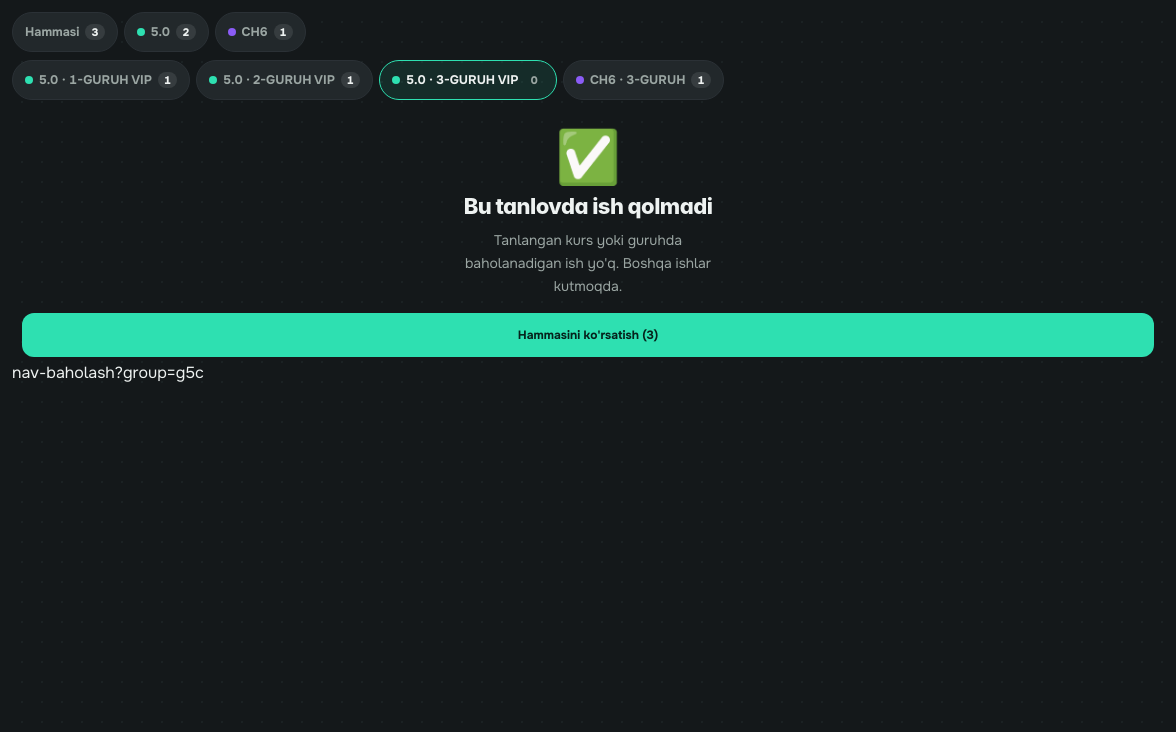
it: TeacherGrade: the inputs never move to another student › a ?group= of a group with nothing waiting is judged only once the teacher's groups have loaded
Earlier steps of the test are not shown.
Expected: the heading "Bu tanlovda ish qolmadi" is shown, [464, 193, 712, 219]
Click the button "Hammasini ko'rsatish (3)". click: [588, 335]
box: [22, 313, 1154, 357]
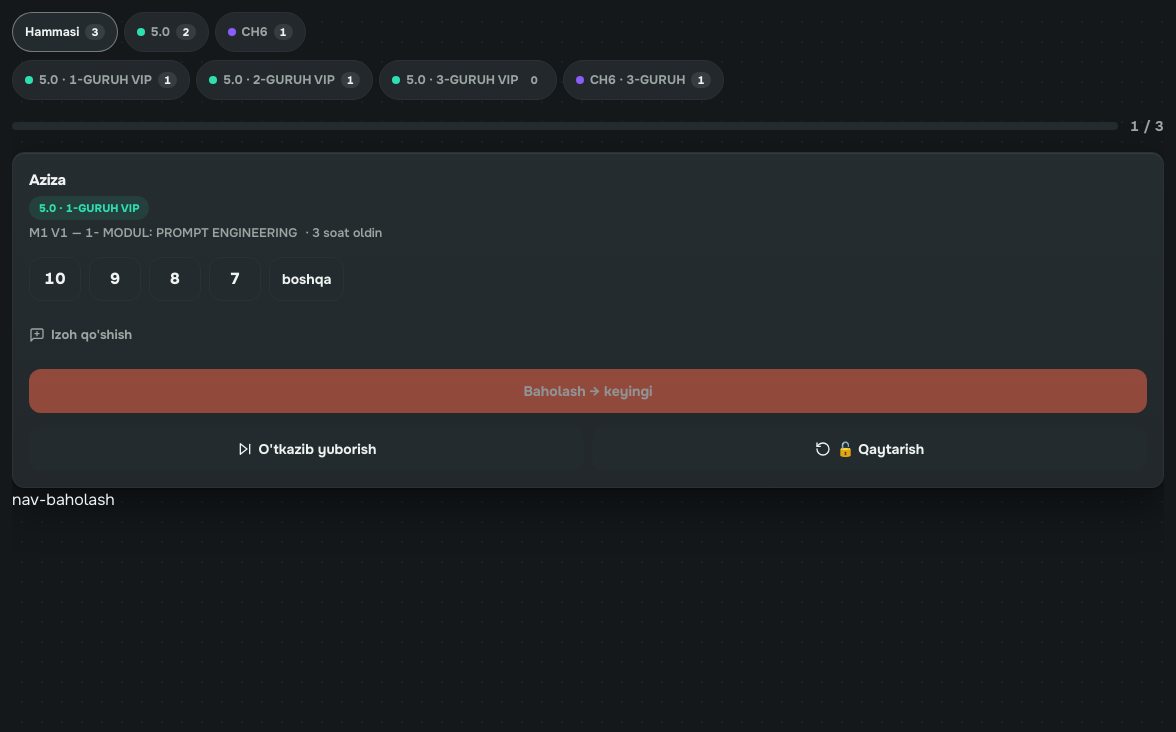
Expected: the text "Aziza" is shown, [29, 170, 66, 190]
